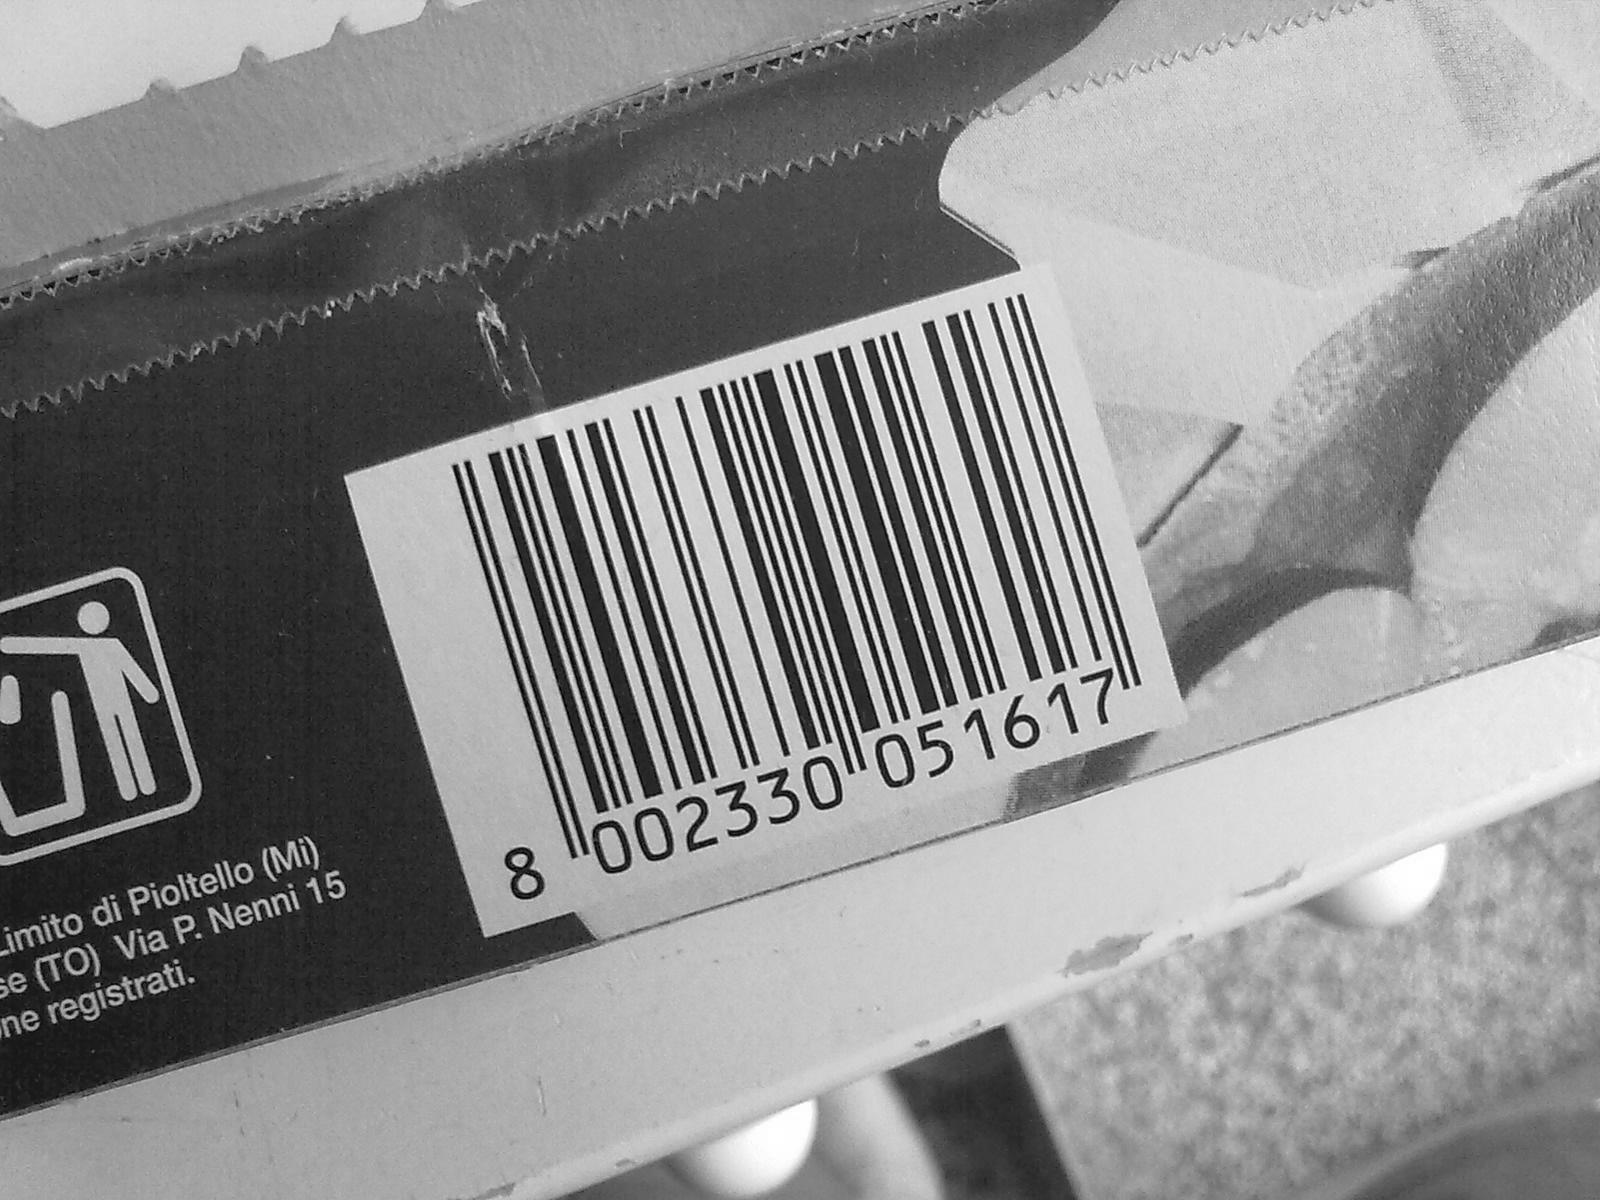Barcode: (440, 266, 1165, 836)
